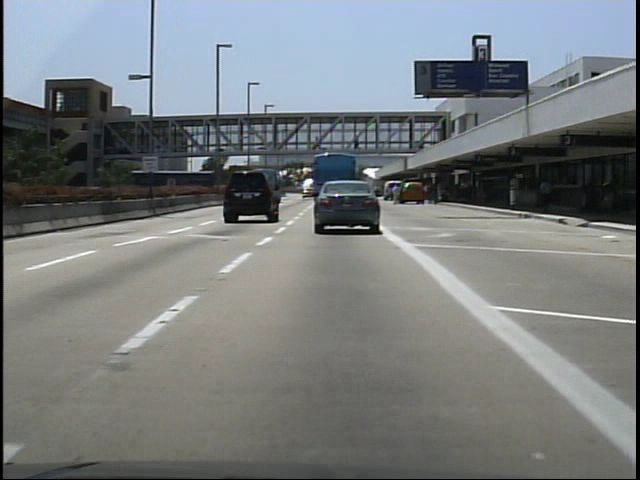person: (537, 173, 557, 216), (422, 179, 439, 209), (390, 181, 406, 208), (351, 134, 364, 156), (311, 132, 324, 152)
